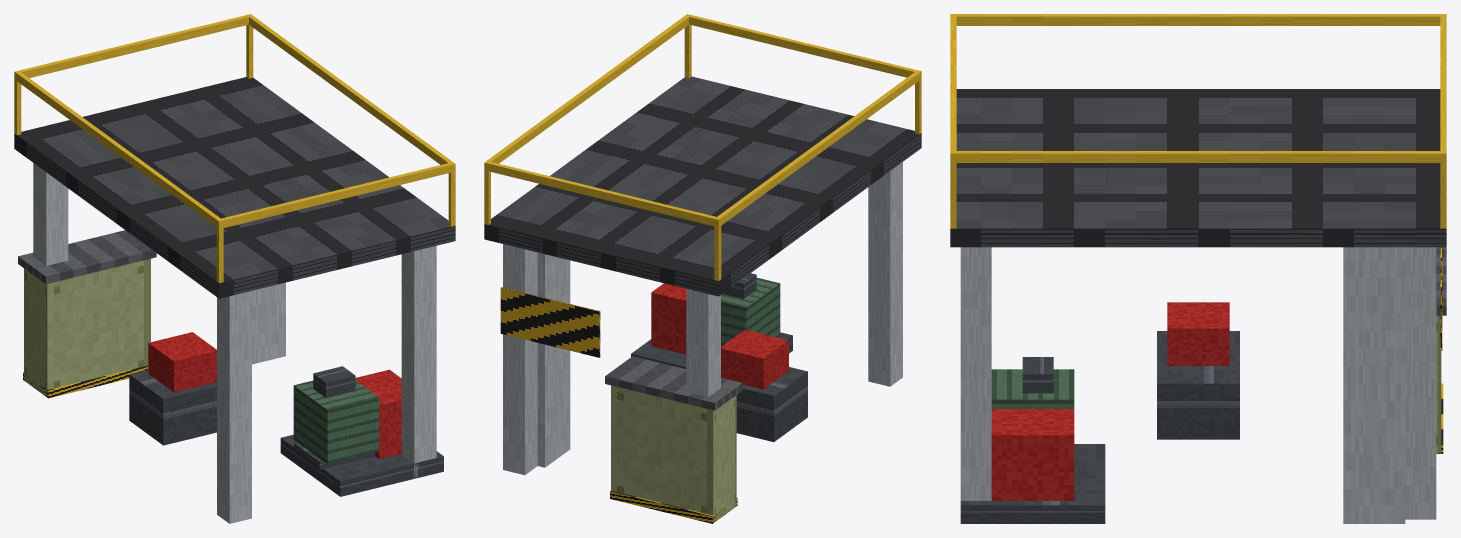
File: tank_unloader.obj
3 views of the same model, side by side, from view 1: azimuth 30°, elevation 25°; view 2: azimuth 150°, elevation 25°; view 3: azimuth 270°, elevation 25° (orthographic). The views are drawn at different scales.
Parts seen in each view (by area): view 1: deck, cabinet, leg2, leg3, motor, manifold, pump_skid, cab_roof, manifold_valve, leg0, rail_r, rail_b (+7 smaller); view 2: deck, cabinet, leg2, leg1, stair, sign, manifold, leg0, cab_roof, manifold_valve, motor, rail_r (+7 smaller); view 3: deck, stair, leg1, leg3, pump, manifold, rail_l, rail_r, pump_skid, manifold_valve, motor, motor_box (+4 smaller).
Part boxes in pixels (x1,y1,x2,y2): deck: (14,77,455,298); cabinet: (24,258,150,396); leg2: (217,291,251,523); leg3: (401,246,436,478); motor: (293,380,379,464); manifold: (129,369,216,445); pump_skid: (280,434,443,496); cab_roof: (18,230,156,284); manifold_valve: (148,332,216,392); leg0: (33,163,68,265); rail_r: (14,72,223,228); rail_b: (216,162,455,228); deck: (484,76,921,296); cabinet: (611,385,736,522); leg2: (868,162,902,386); leg1: (503,244,537,475); stair: (537,252,570,467); sign: (500,287,600,357); manifold: (736,367,807,441); leg0: (686,288,720,396); cab_roof: (605,356,742,410); manifold_valve: (721,329,788,389); motor: (721,277,780,346); rail_r: (714,70,921,226); deck: (950,89,1446,247); stair: (1343,247,1405,523); leg1: (1405,247,1436,519); leg3: (960,247,991,500); pump: (991,409,1074,500); manifold: (1157,331,1239,439); rail_l: (950,151,1446,162); rail_r: (950,14,1444,25); pump_skid: (960,444,1105,523); manifold_valve: (1167,302,1229,365); motor: (991,369,1074,408); motor_box: (1022,357,1053,393).
Size of the model in its own units: 2 by 2.5 by 3.
